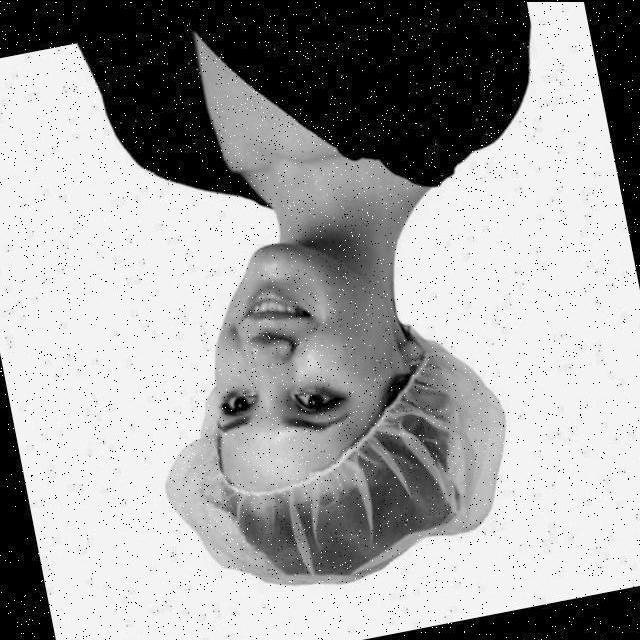no_hairnet: (188, 260, 362, 374)
